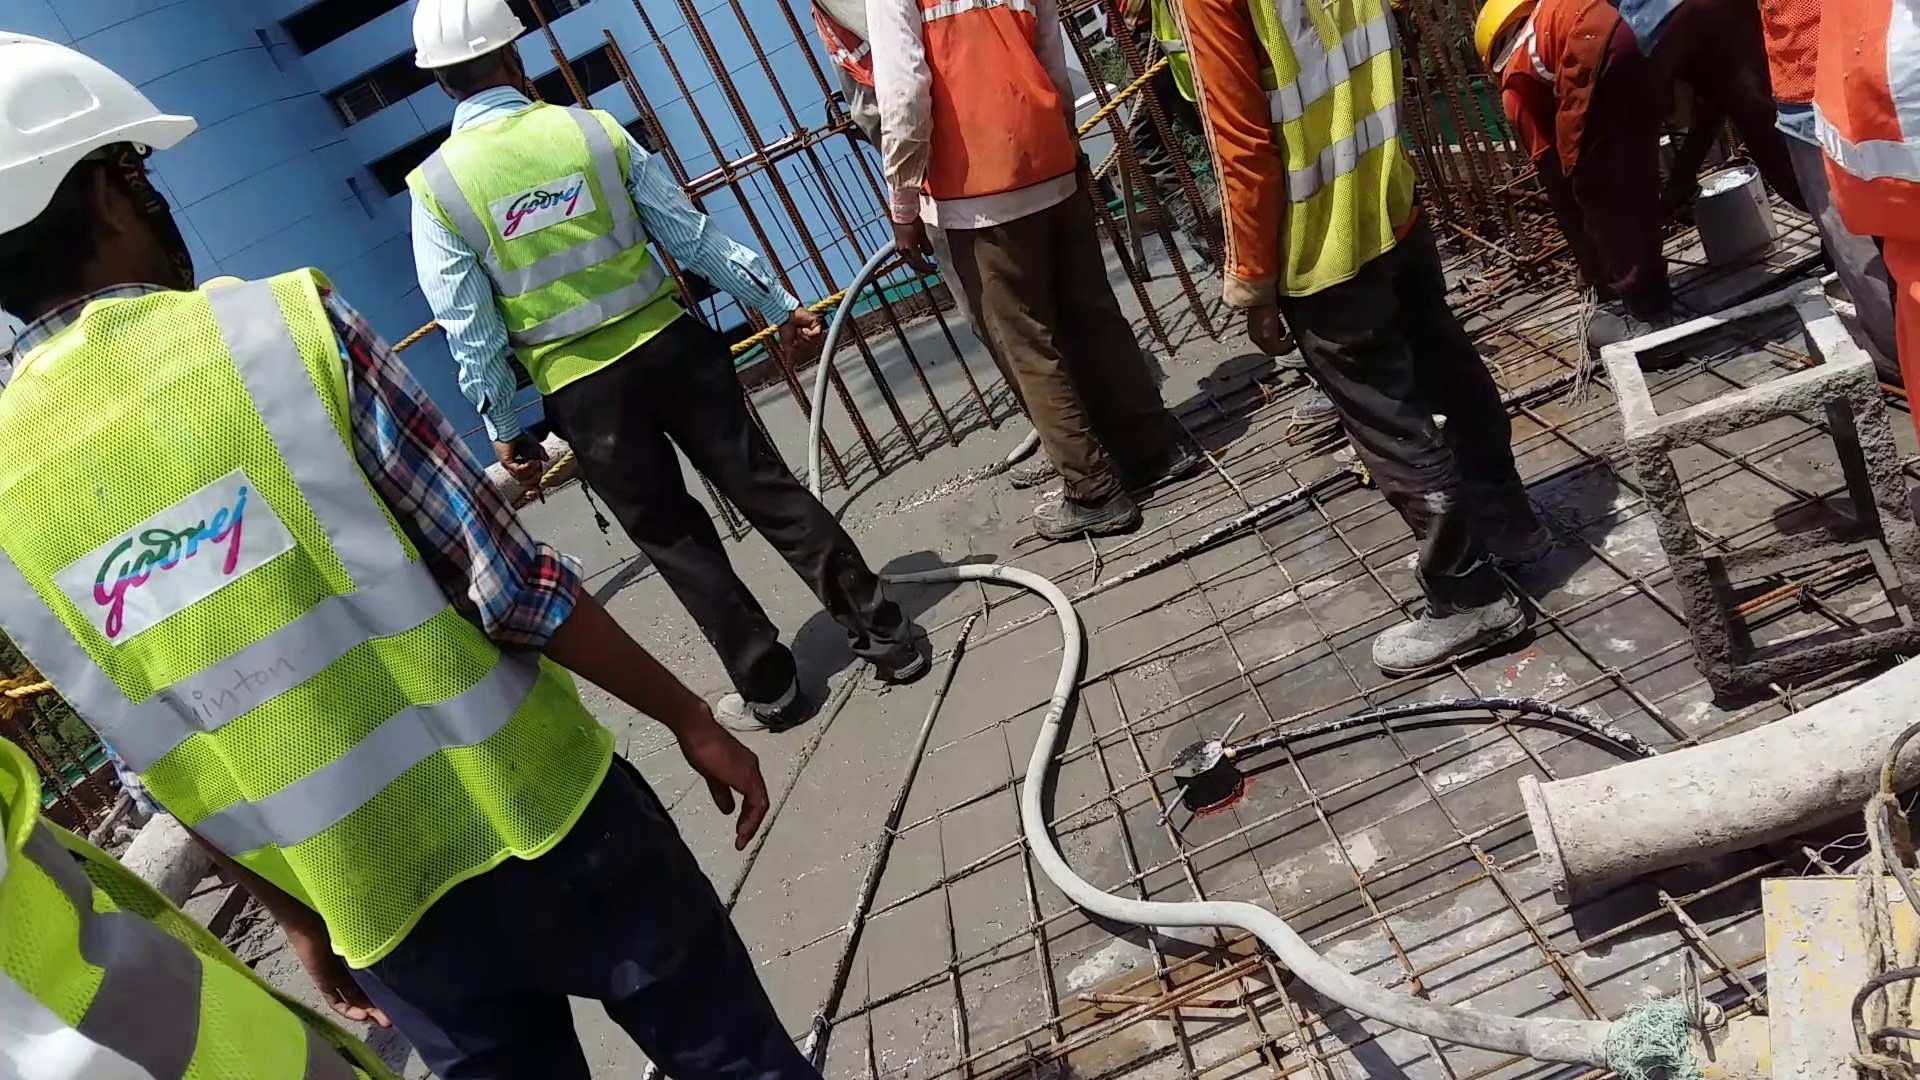SAFE: (1, 22, 393, 957), (433, 3, 659, 371)
